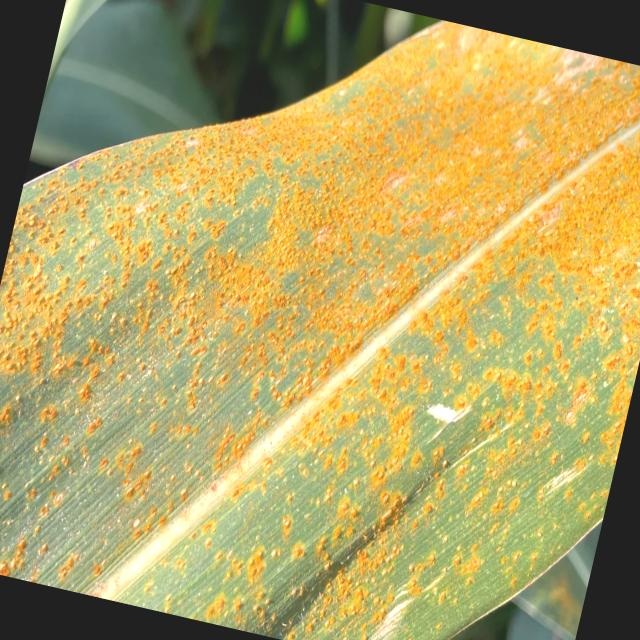leaf_rust: (0, 20, 640, 640)
